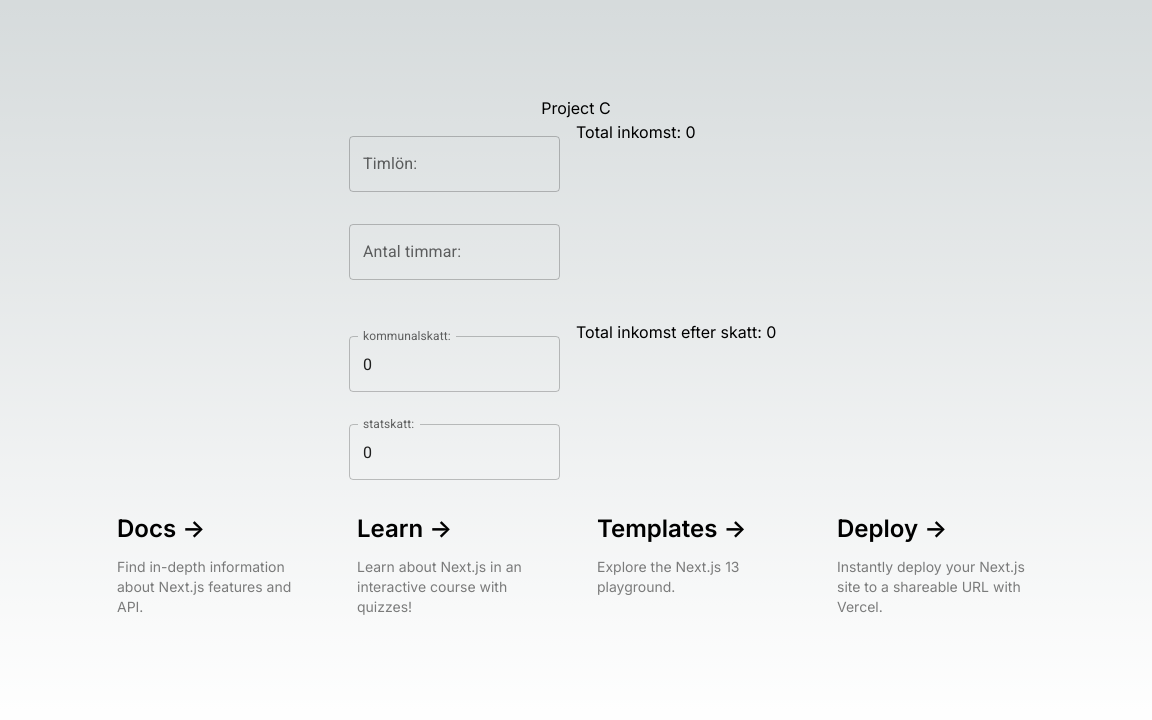
Test: simple tests › can handle simple calc of total income
Type "100" into the field with id "HourlyWage" at [455, 164], box [349,136,560,192]
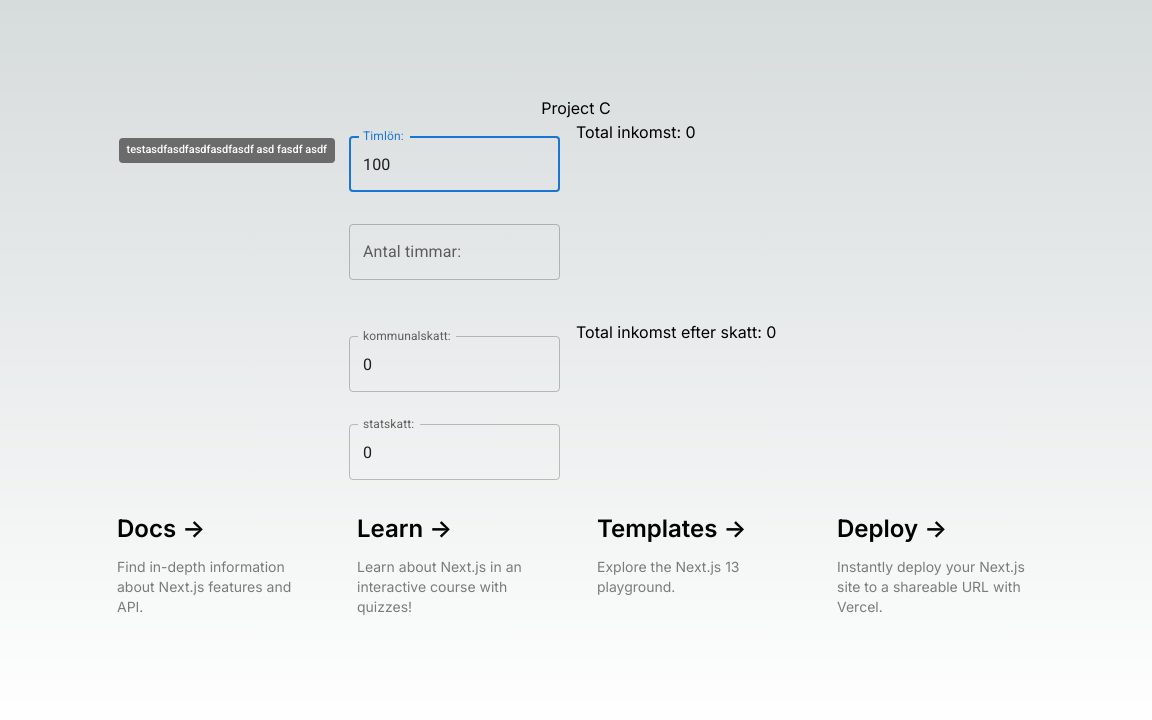
Type "200" into the field with id "Hours" at [455, 252], box [349,224,560,280]
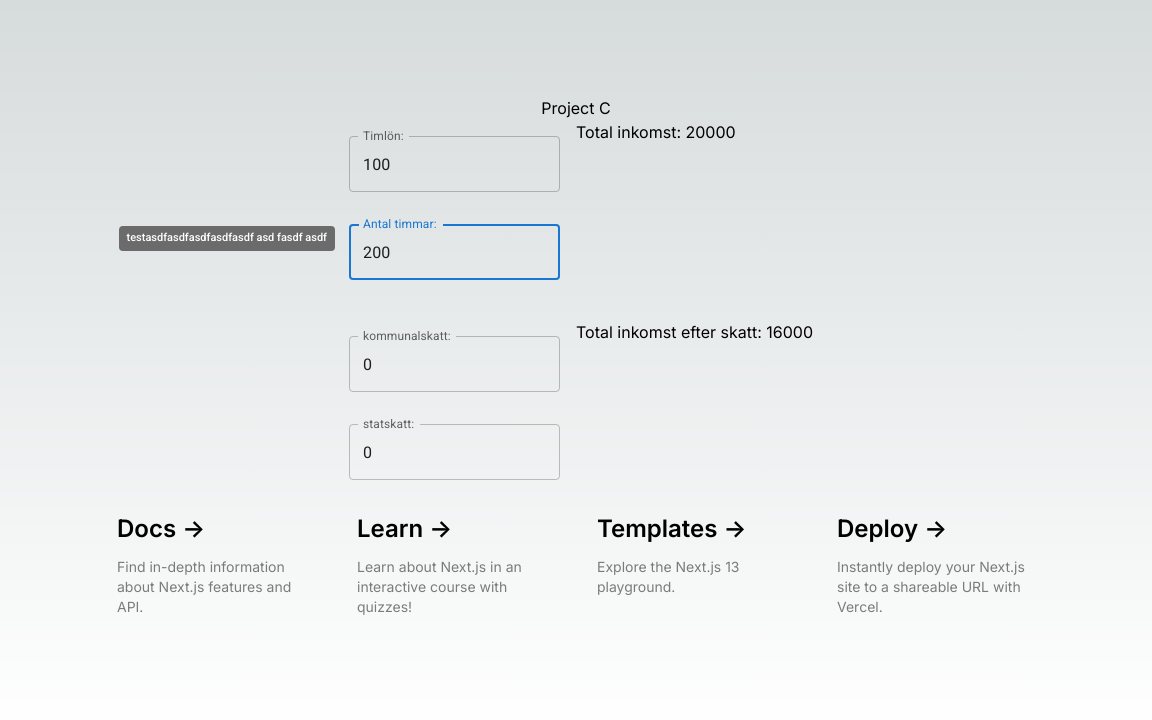
Check: the text with id "TotalIncome" reads "Total inkomst: 20000", box [576,122,736,142]
